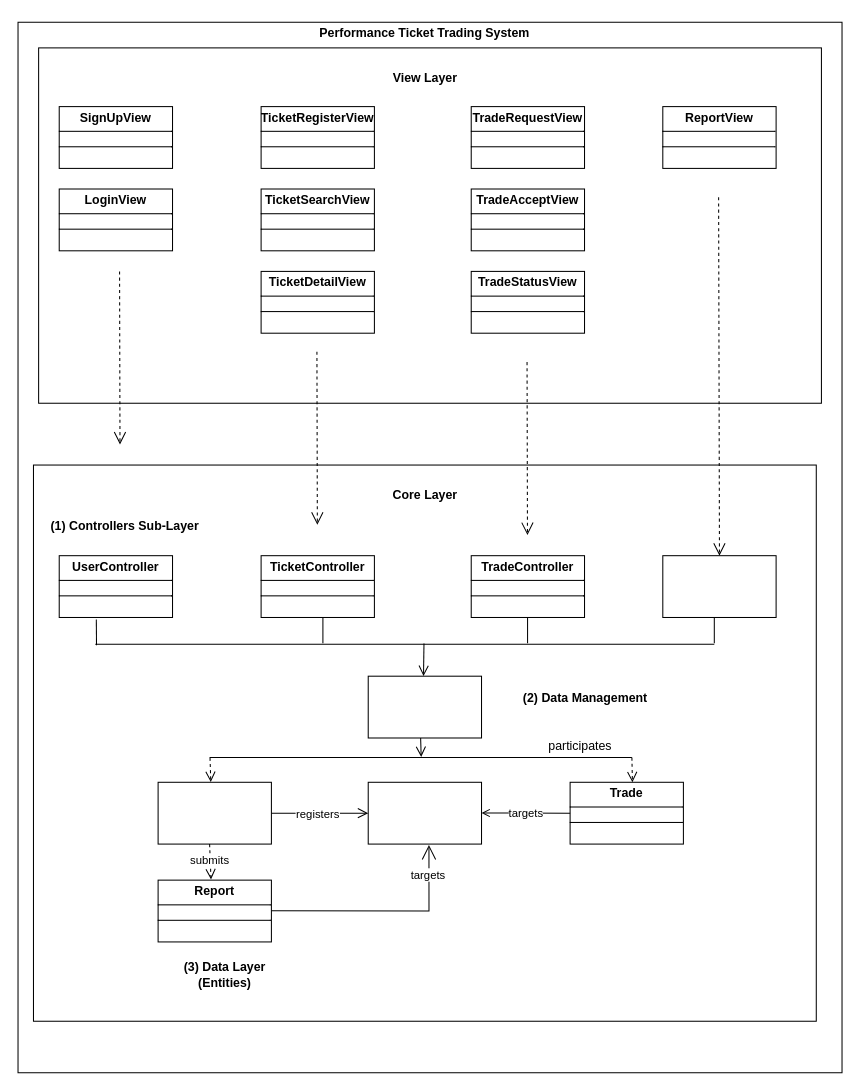
The diagram is 860 pixels wide and 1091 high, and some of its shapes have lost their labels. Each missing label, with the box of its shape:
DataManager: (367, 675, 482, 738)
ReportController: (662, 555, 776, 617)
Ticket: (367, 781, 482, 844)
User: (157, 781, 271, 844)
